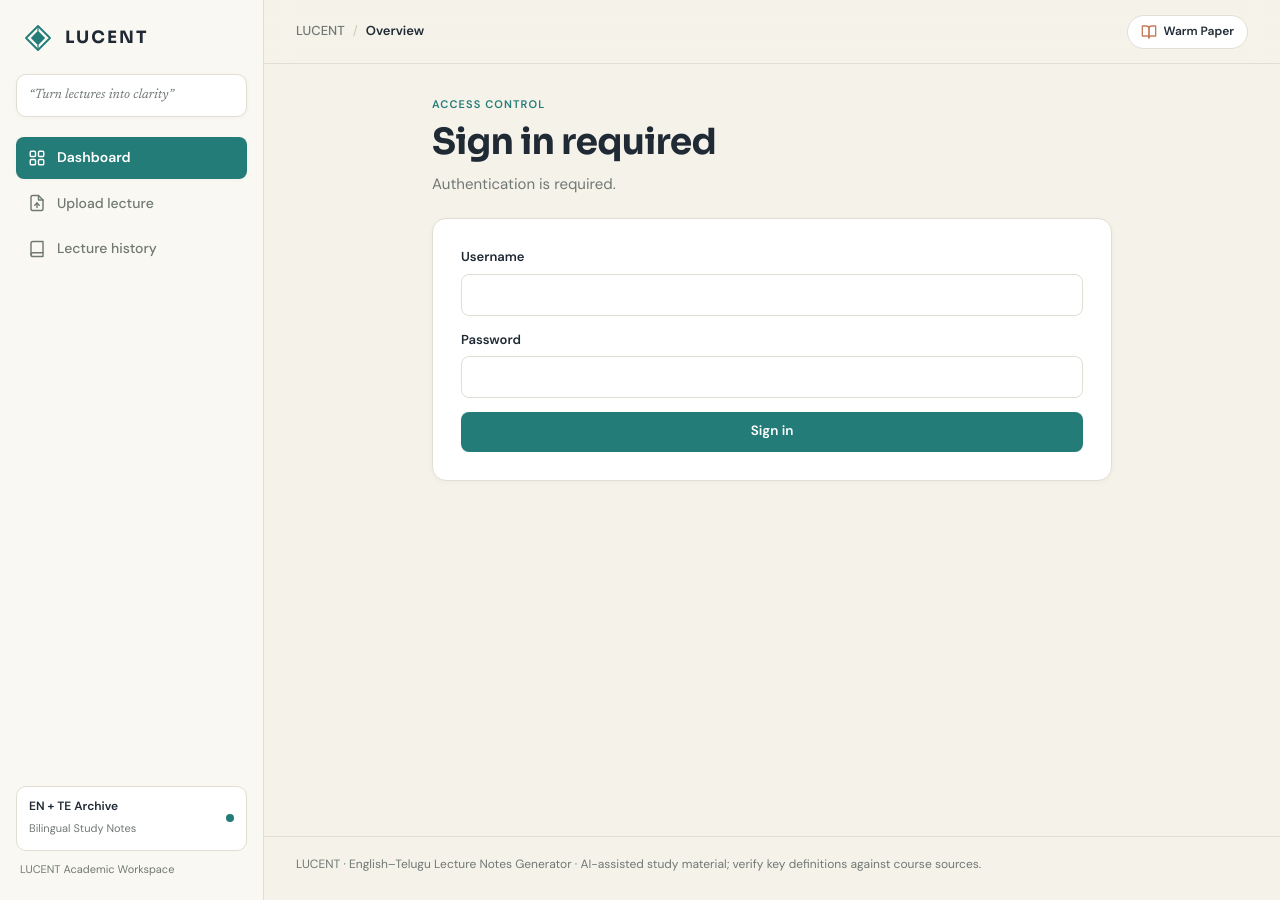
AppLayout public deployment authentication gate › prompts for credentials on 401, stores Basic token, and supports Sign out
Later steps or results of the test are not shown.
Expected: the button "Sign out" is not shown
Expected: the heading "Sign in required" is shown, x1=432 y1=119 x2=716 y2=164
Click the button "Sign in" at (772, 432), box x1=461 y1=412 x2=1083 y2=452
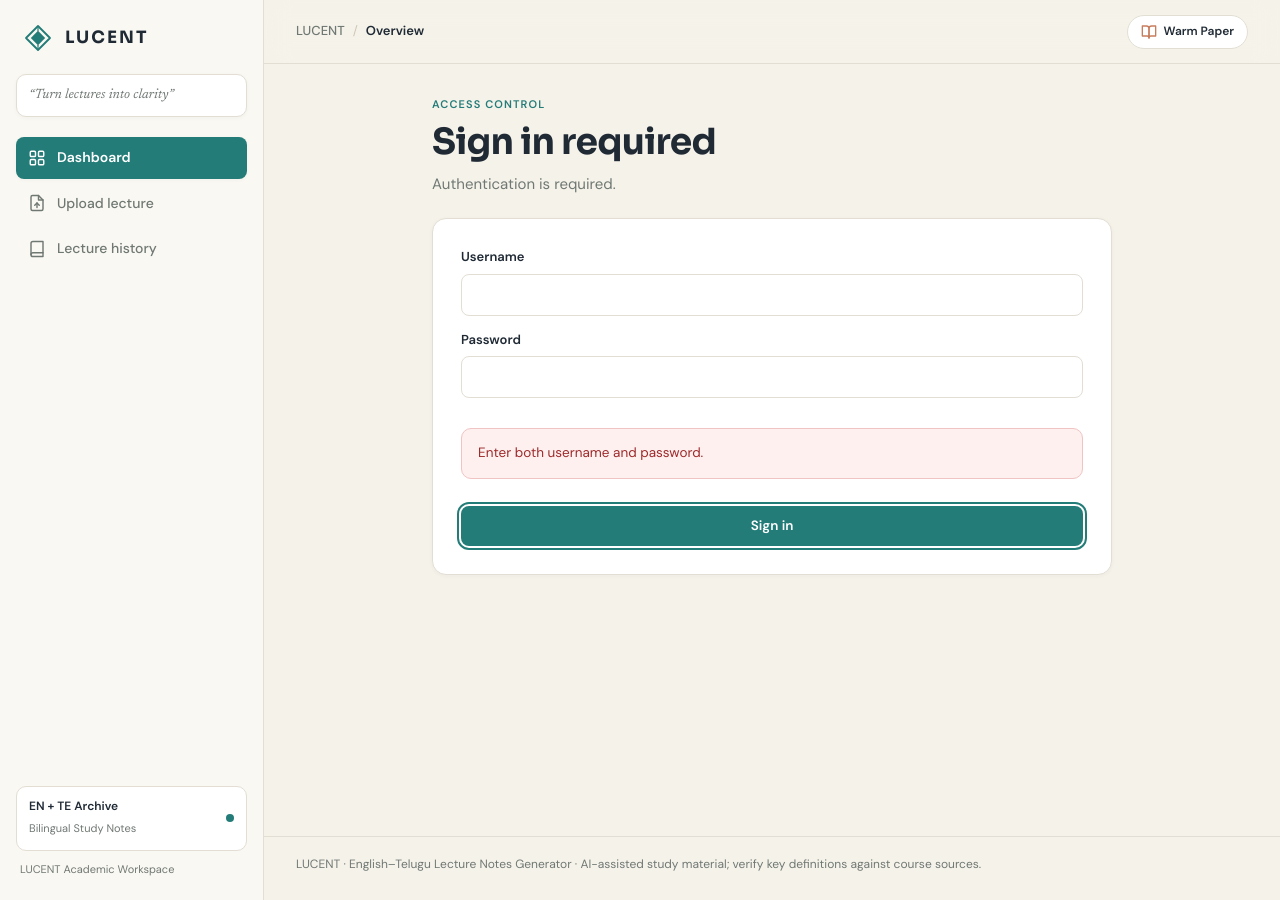
Now the message reads "Enter both username and password.", box x1=478 y1=444 x2=703 y2=461
Type "ops-user" into the field labelled "Username" at (772, 295), box x1=461 y1=274 x2=1083 y2=316
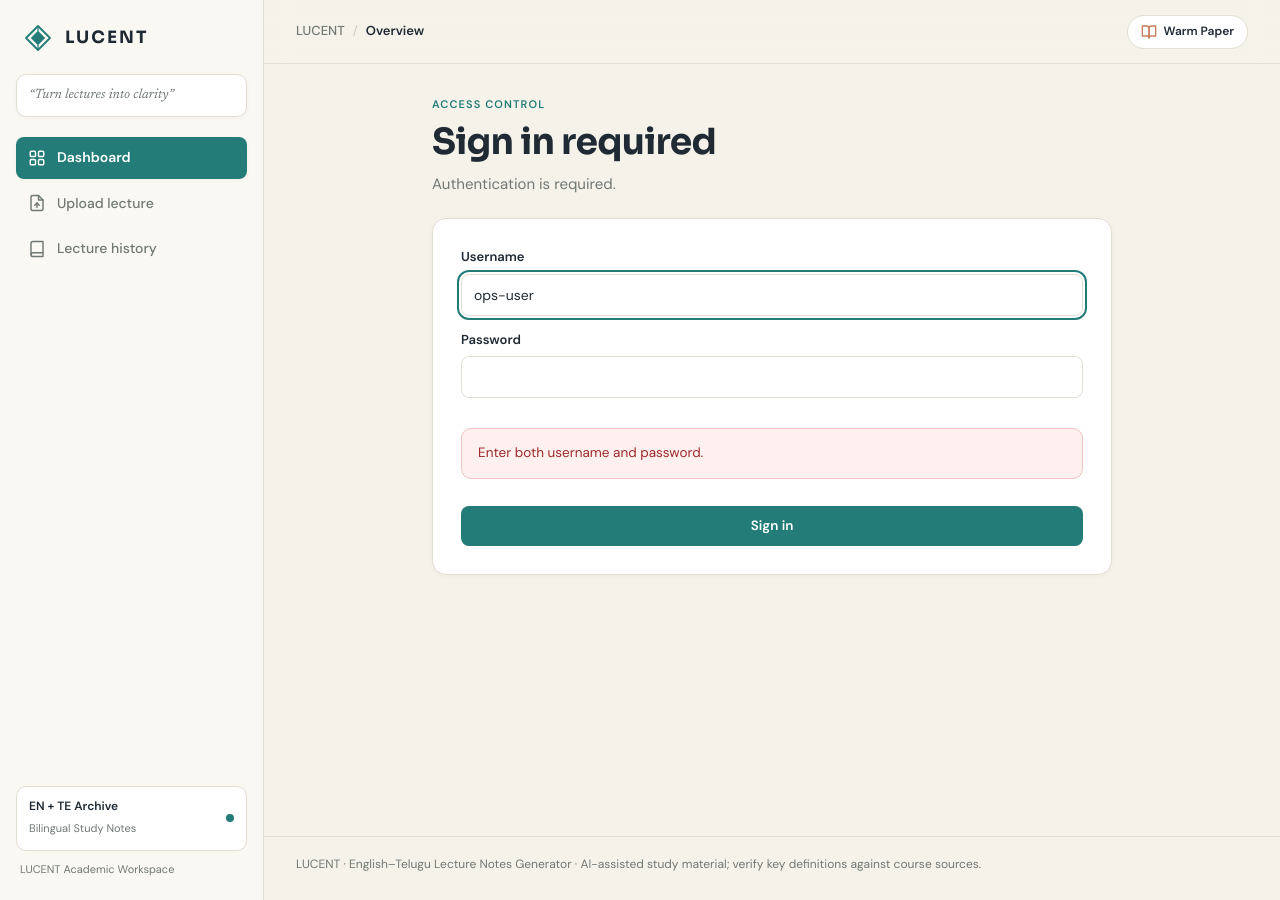
Type "ops-secret" into the password field labelled "Password" at (772, 377), box x1=461 y1=356 x2=1083 y2=398
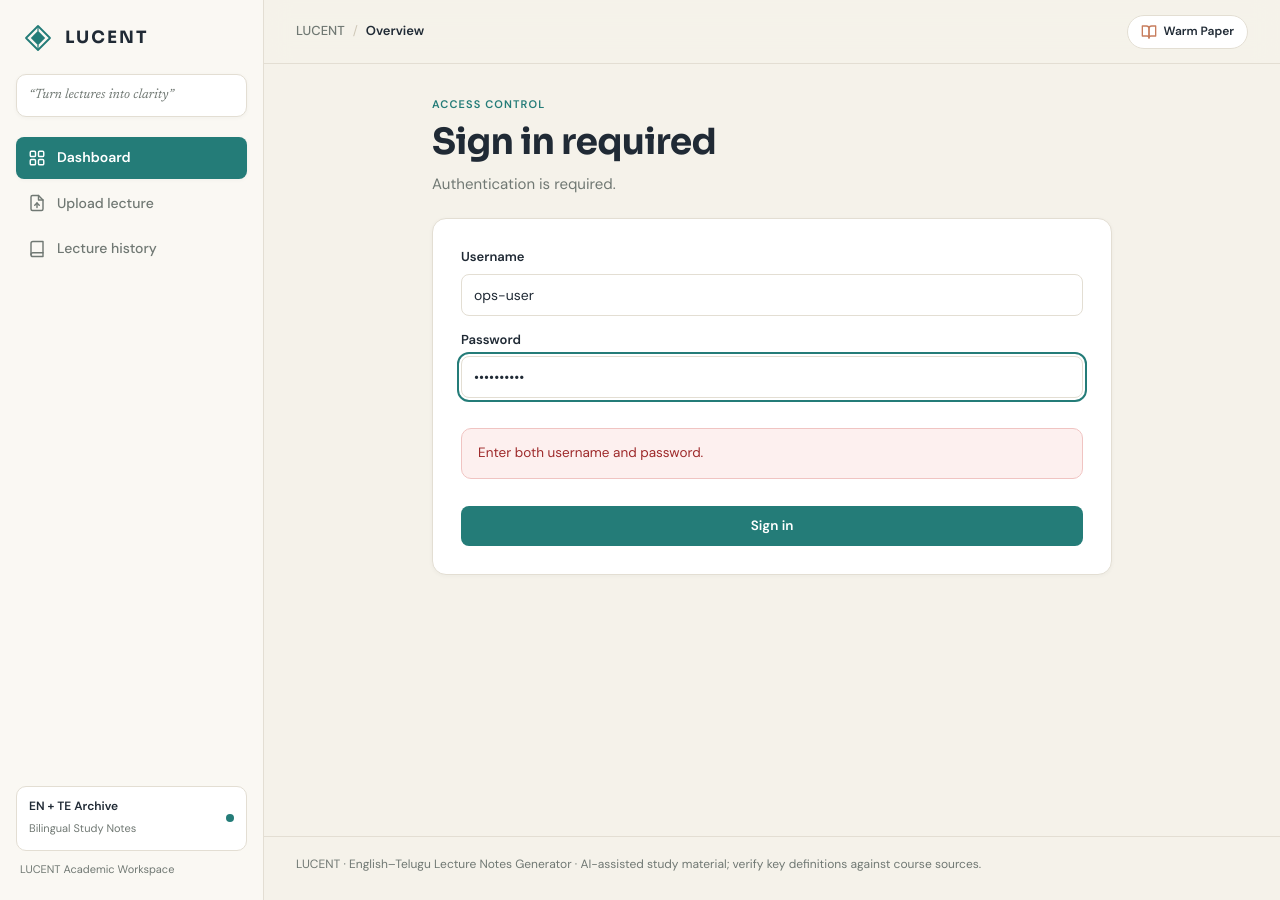
Click the button "Sign in" at (772, 526), box x1=461 y1=506 x2=1083 y2=546
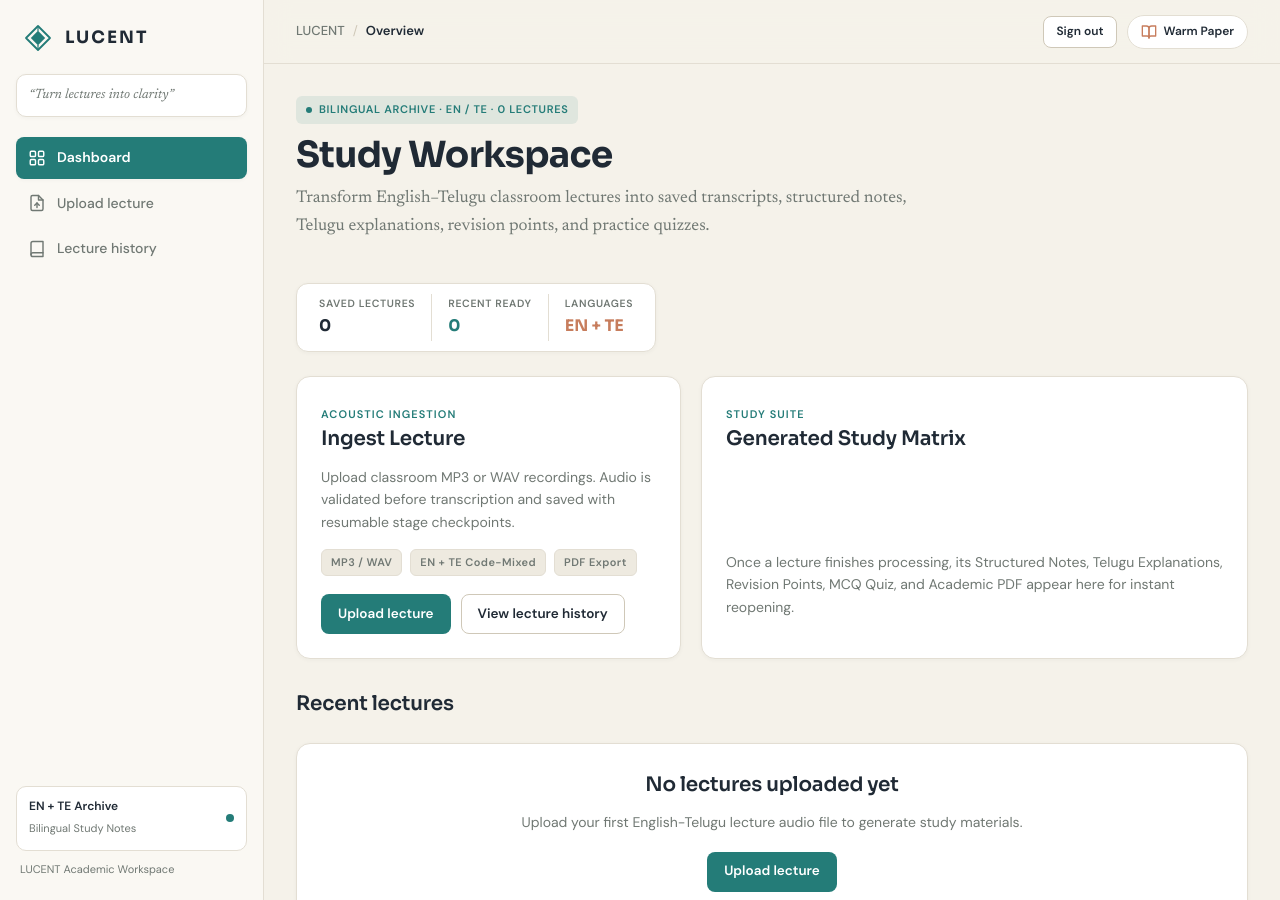
Now the heading "No lectures uploaded yet" is shown, box x1=645 y1=772 x2=899 y2=797
Click the button "Sign out" at (1080, 32), box x1=1044 y1=16 x2=1117 y2=48
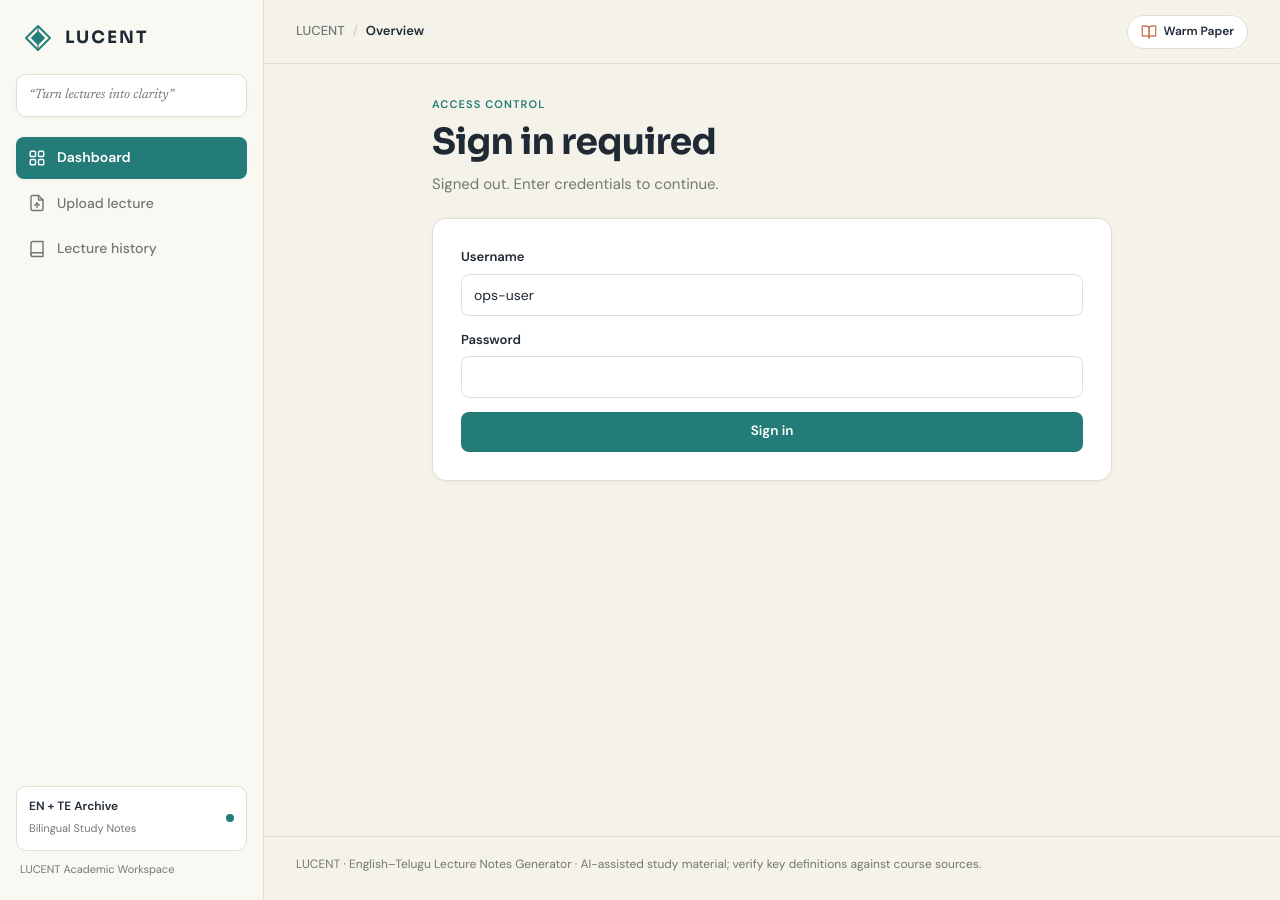
Now the heading "Sign in required" is shown, box x1=432 y1=119 x2=716 y2=164
